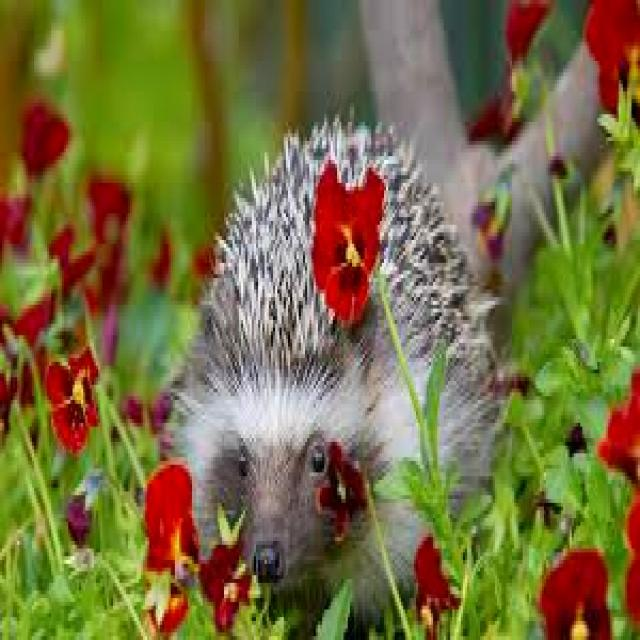hedgehog: (166, 118, 499, 613)
